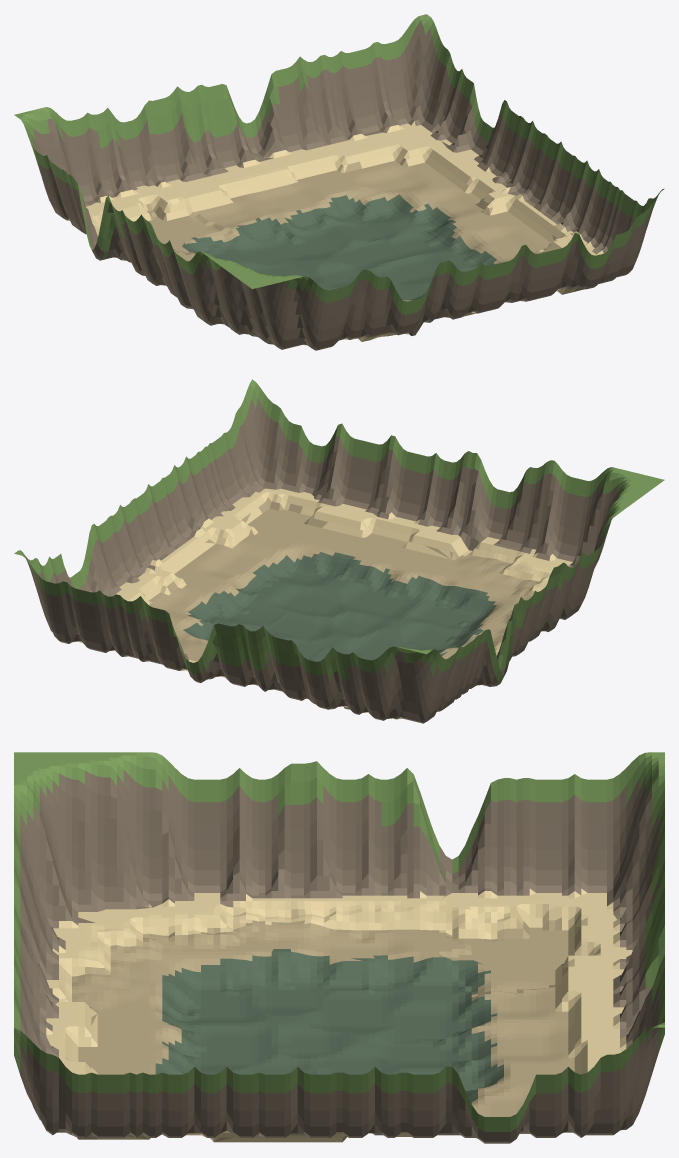
Rendered from terrain9000FacesBackUp.glb.
3 views of the same model, one above another, from view 1: azimuth 30°, elevation 25°; view 2: azimuth 150°, elevation 25°; view 3: azimuth 270°, elevation 25° (orthographic). The views are drawn at different scales.
Visible parts, largest first — view 1: terrain; view 2: terrain; view 3: terrain.
Part boxes in pixels (<box>): terrain: <box>14,14,664,350</box>; terrain: <box>14,379,664,723</box>; terrain: <box>14,752,664,1143</box>.
Size of the model in its own units: 150 by 40.32 by 150.
